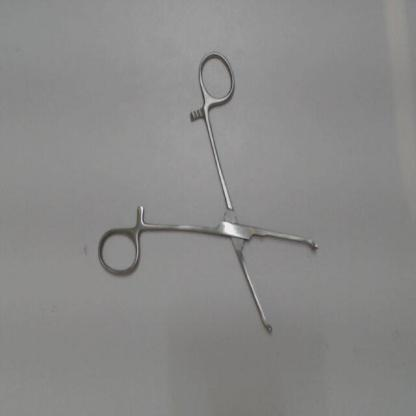Allis Tissue Forceps: (92, 45, 331, 347)
